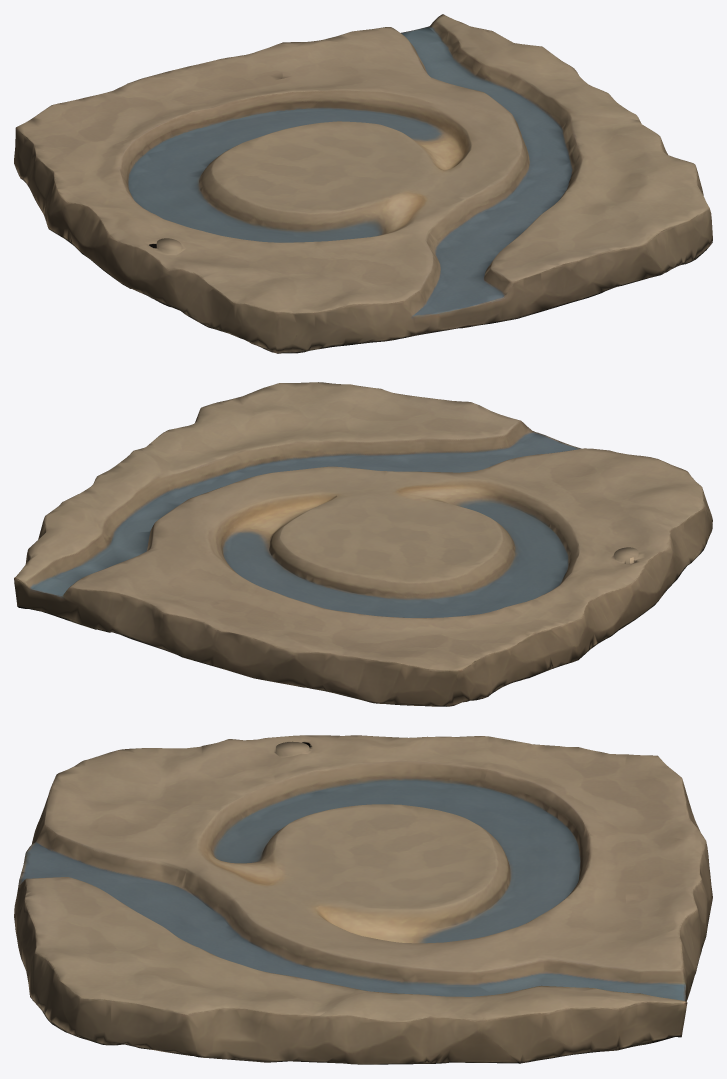
3 renders of one model, top to bottom at view 1: azimuth 30°, elevation 25°; view 2: azimuth 150°, elevation 25°; view 3: azimuth 270°, elevation 25°, orthographic. The views are drawn at different scales.
Parts seen in each view (by area): view 1: geometry_0; view 2: geometry_0; view 3: geometry_0.
Part boxes in pixels (<box>): geometry_0: <box>14,14,712,353</box>; geometry_0: <box>14,382,712,706</box>; geometry_0: <box>14,735,712,1064</box>.
Bounding box in the file's own units: 27.97 × 2.52 × 28.
Materials: 1 (1 with a texture image).
